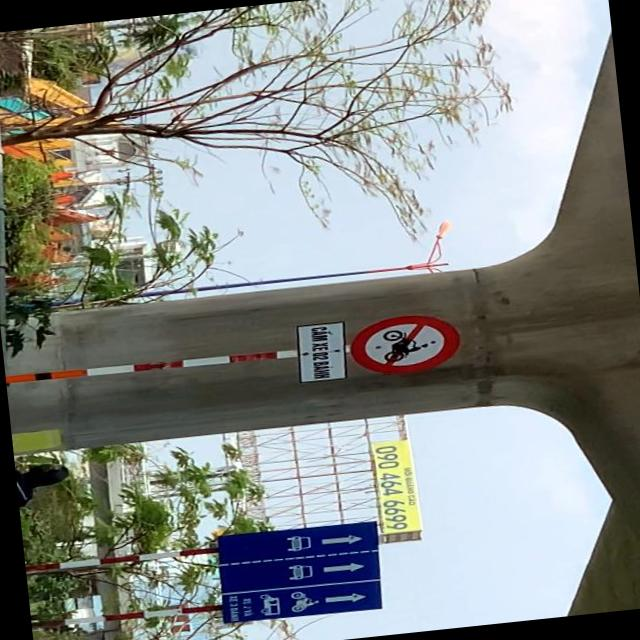P-104: (346, 310, 464, 378)
